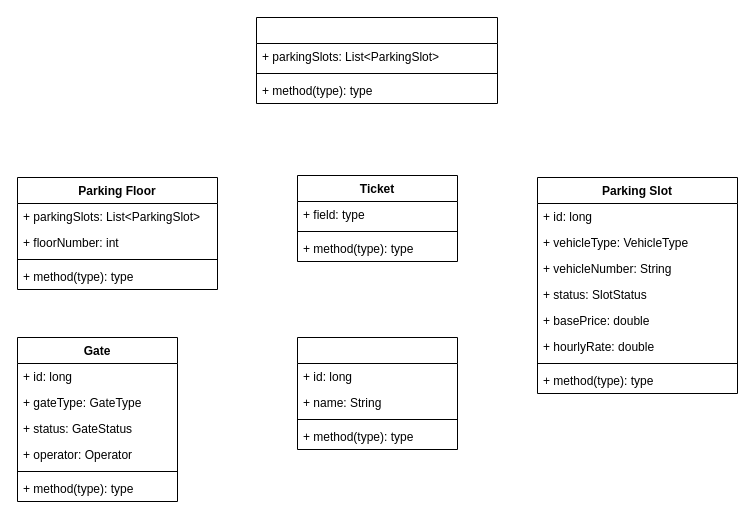
This 755x522 diagram has some shape labels left out. Each missing label, with the box of its shape:
Operator: (296, 336, 458, 450)
Parking Lot: (256, 16, 498, 104)
